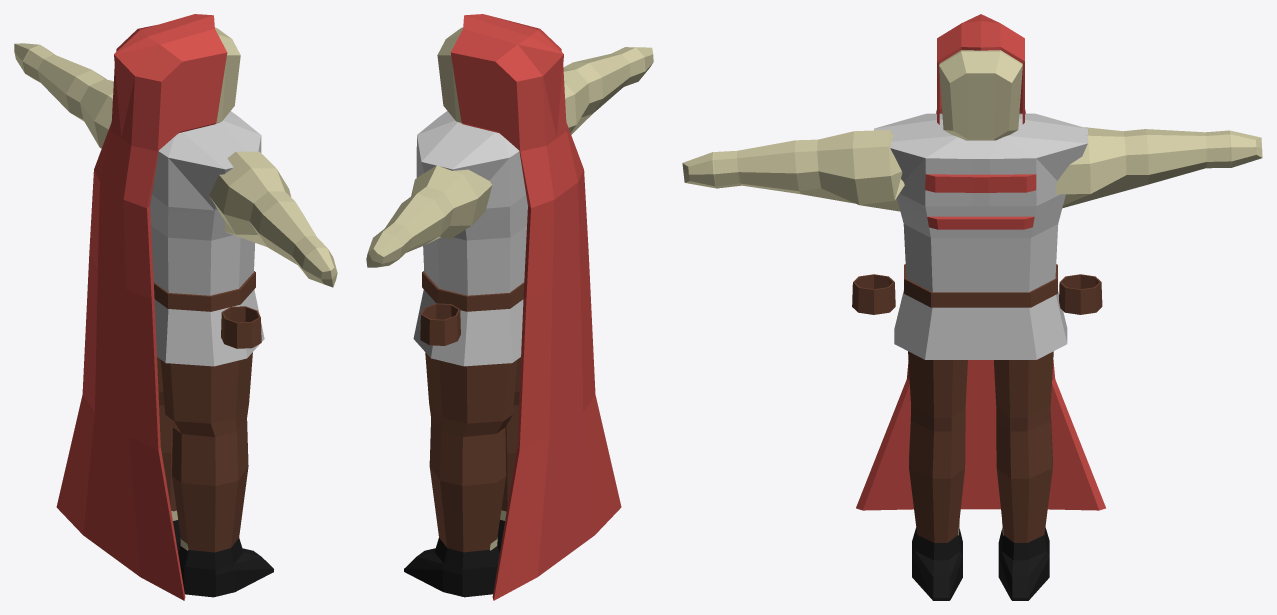
Rendered from Hunter Clothingtest.fbx.
3 renders of one model, left to right at view 1: azimuth 30°, elevation 25°; view 2: azimuth 150°, elevation 25°; view 3: azimuth 270°, elevation 25°, orthographic. The views are drawn at different scales.
Parts seen in each view (by area): view 1: Hunter Cloak (Head), Hunter Tunic (Torso), Hunter Trousers (Legs), Basic Hunter; view 2: Hunter Cloak (Head), Hunter Tunic (Torso), Hunter Trousers (Legs), Basic Hunter; view 3: Hunter Tunic (Torso), Basic Hunter, Hunter Trousers (Legs), Hunter Cloak (Head).
Boxes of the visible parts, x1,y1,x2,y2 form: Hunter Cloak (Head): (56, 14, 227, 600); Hunter Tunic (Torso): (150, 111, 264, 366); Hunter Trousers (Legs): (157, 352, 273, 596); Basic Hunter: (14, 27, 337, 597); Hunter Cloak (Head): (450, 14, 621, 600); Hunter Tunic (Torso): (413, 111, 566, 366); Hunter Trousers (Legs): (404, 352, 520, 596); Basic Hunter: (366, 27, 653, 597); Hunter Tunic (Torso): (852, 113, 1102, 359); Basic Hunter: (682, 50, 1262, 600); Hunter Trousers (Legs): (908, 351, 1053, 600); Hunter Cloak (Head): (856, 14, 1105, 510).
Size of the model in its own units: 242 by 920 by 900.
